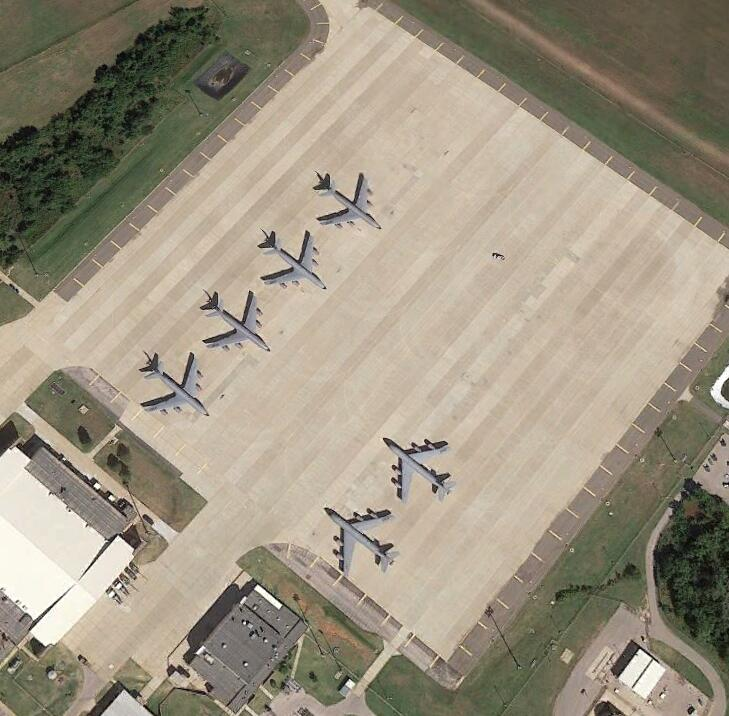A14: (324, 508, 402, 577), (383, 439, 458, 506), (142, 352, 211, 420), (313, 174, 382, 233), (204, 294, 271, 353), (261, 234, 327, 292)
